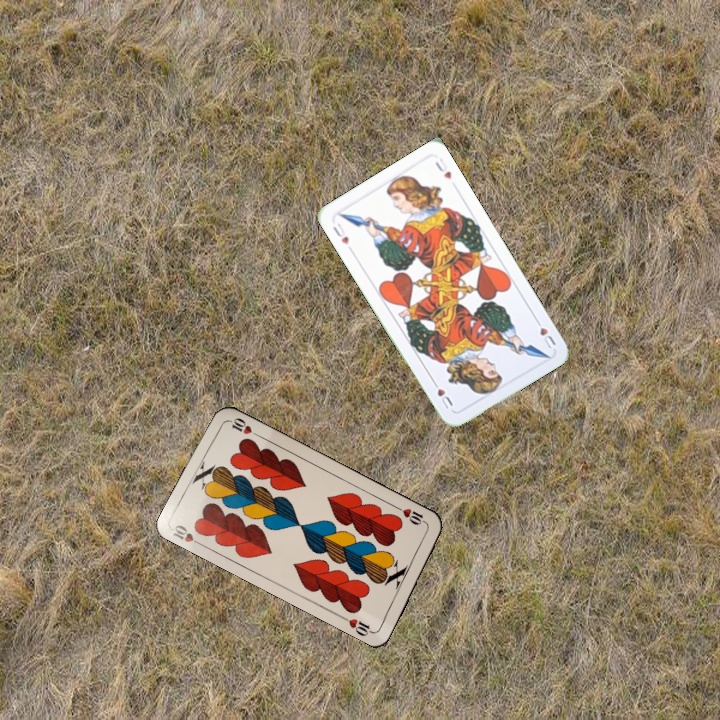H10: (168, 521, 206, 549), (393, 502, 430, 528)
HU: (531, 314, 558, 351), (329, 219, 351, 247)
